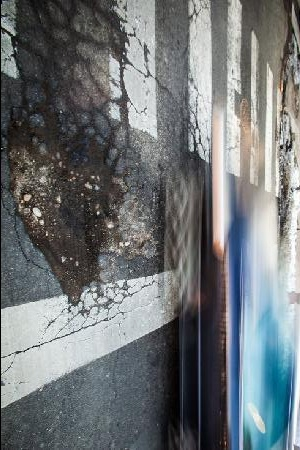pothole: (4, 108, 124, 299)
